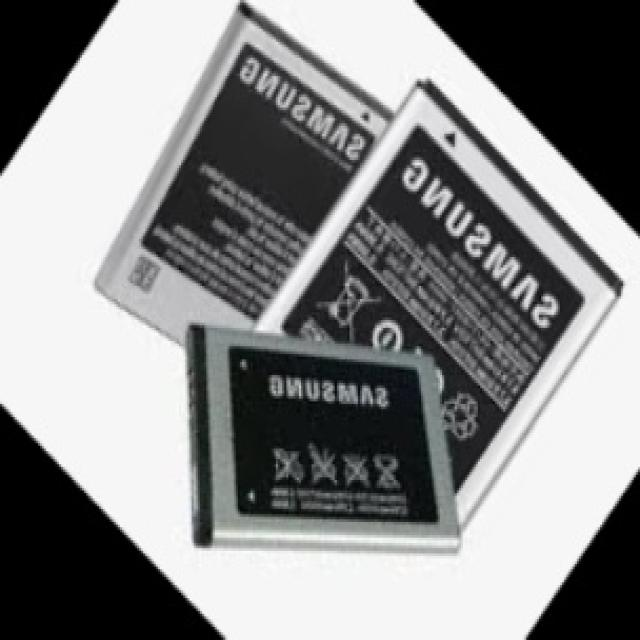elektronik: (254, 80, 618, 534), (190, 322, 452, 552)
